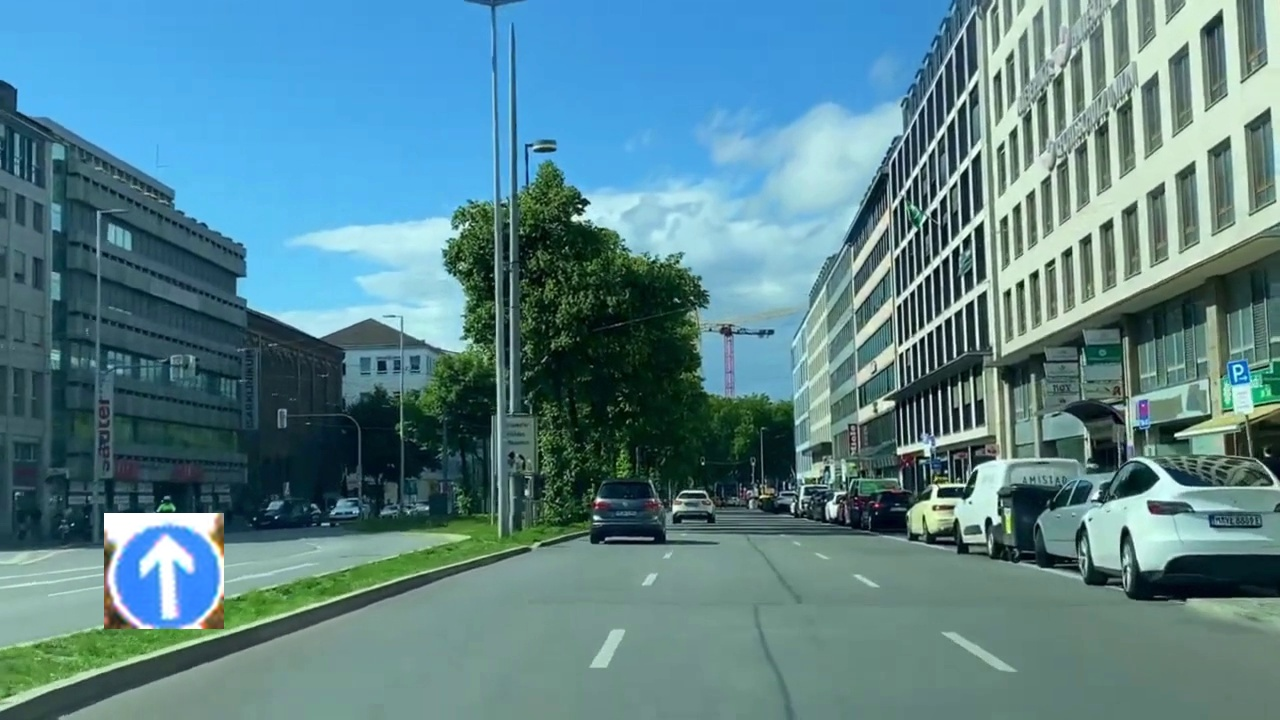Ahead only: (104, 513, 224, 629)
